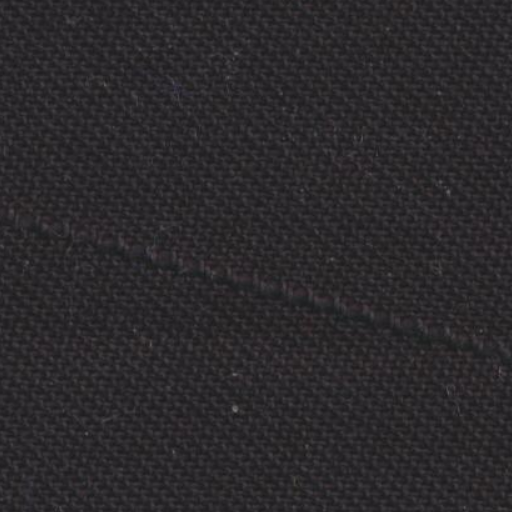DaiSha: (49, 203, 488, 350)
